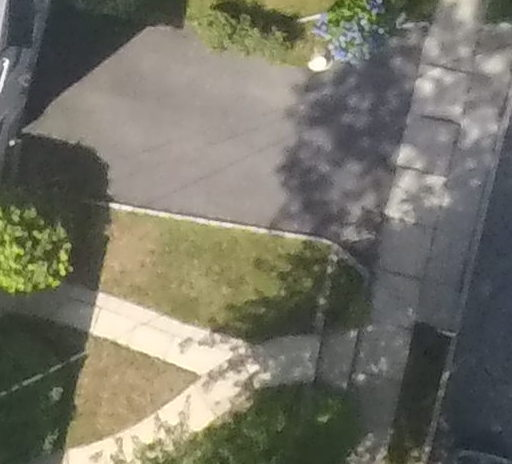driveway: (24, 1, 440, 270)
